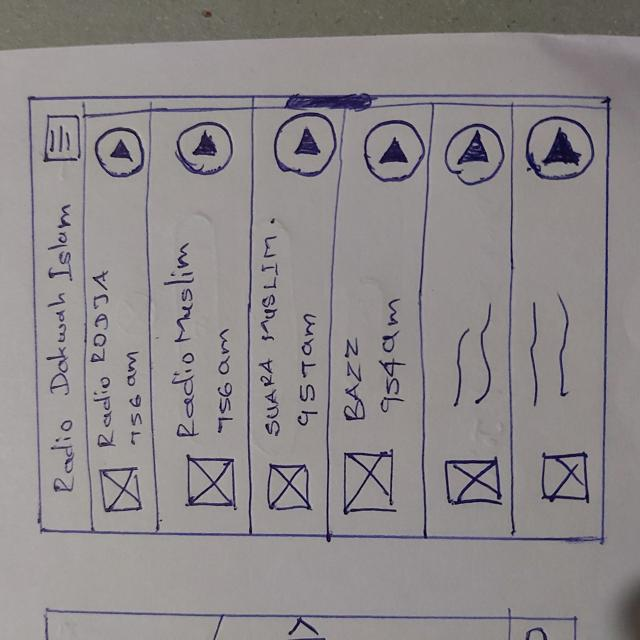DrawerToggleButton: (43, 114, 80, 165)
Icon: (524, 114, 598, 184), (442, 121, 508, 189), (363, 119, 424, 184), (172, 119, 238, 179), (274, 113, 335, 176), (95, 131, 146, 180)
Image: (343, 448, 395, 514), (186, 454, 237, 510), (446, 458, 503, 506), (540, 452, 589, 501), (96, 466, 146, 513), (265, 460, 312, 510)
Layout: (144, 110, 255, 533), (324, 113, 427, 536), (419, 104, 517, 537), (509, 103, 604, 541), (247, 110, 332, 535), (84, 113, 163, 534)
ListView: (83, 117, 605, 541)
MainLayout: (24, 89, 616, 549)
ScrollBar: (90, 92, 606, 112)
TextView: (40, 201, 83, 498), (445, 298, 501, 416), (169, 243, 201, 446), (257, 222, 285, 438), (528, 289, 577, 412), (89, 270, 119, 452), (378, 294, 408, 420), (293, 311, 323, 430), (210, 326, 236, 438), (340, 336, 369, 428), (122, 351, 146, 448)
VerticalListView: (84, 110, 607, 539)
